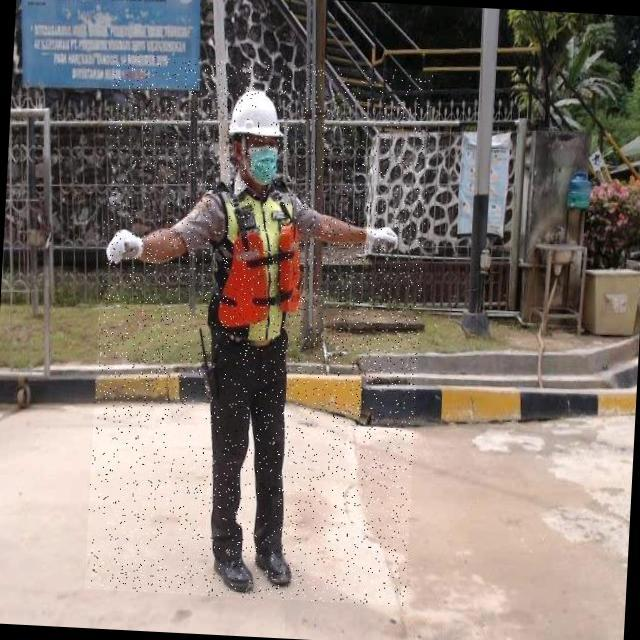Helmet: (226, 89, 289, 145)
Human: (85, 54, 434, 606)
Safety Boot: (211, 550, 258, 593), (256, 545, 296, 591)
Safety Vest: (208, 179, 311, 340)
